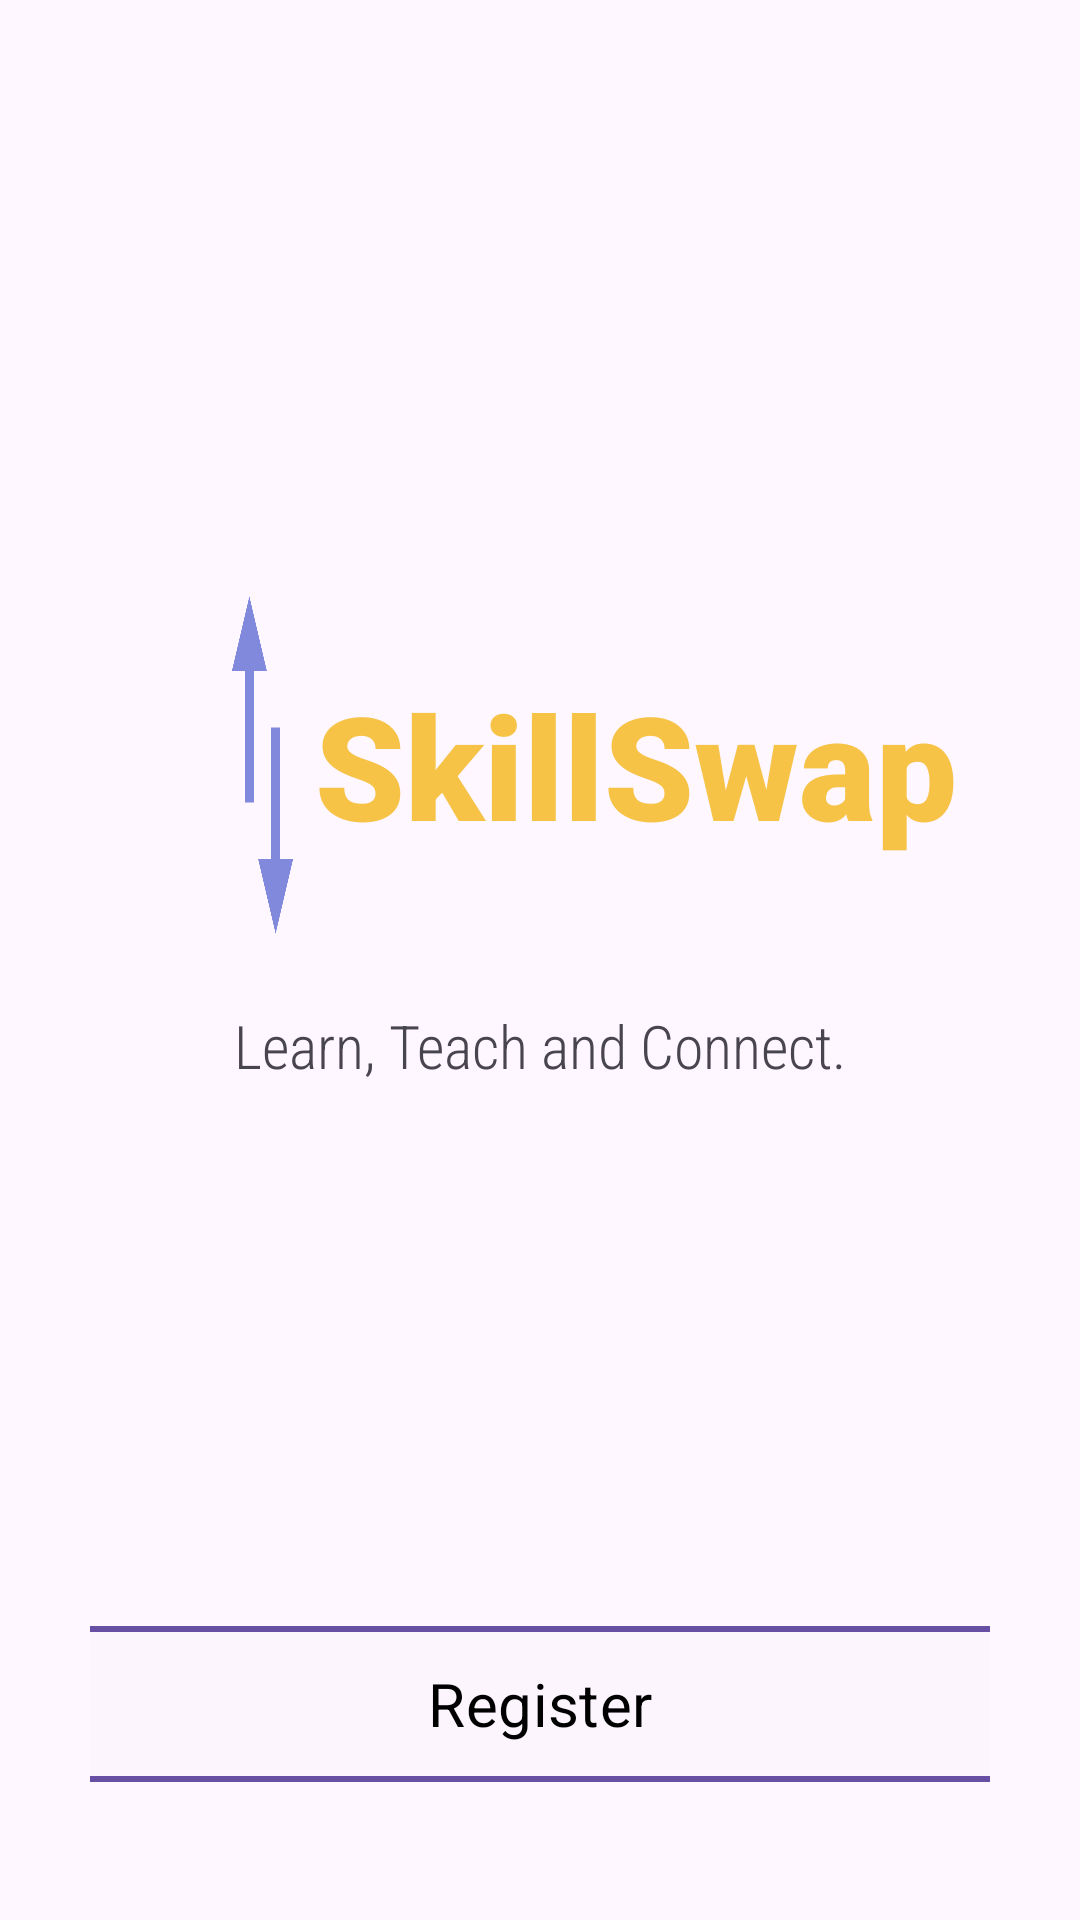

Named icons in this screenshot (1080px x 1920px) and their bounding boxes, [left=x1, top=y1, right=x2, bottom=y2]:
swap vert: [left=232, top=596, right=293, bottom=934]
